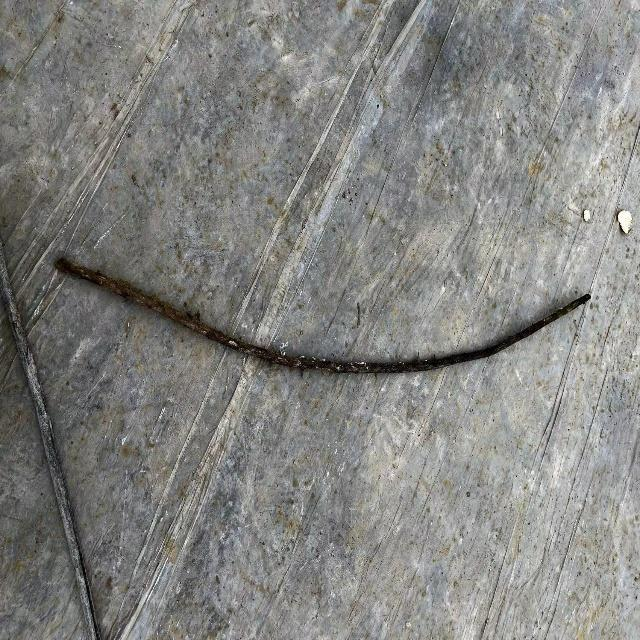branch: (54, 257, 587, 375)
